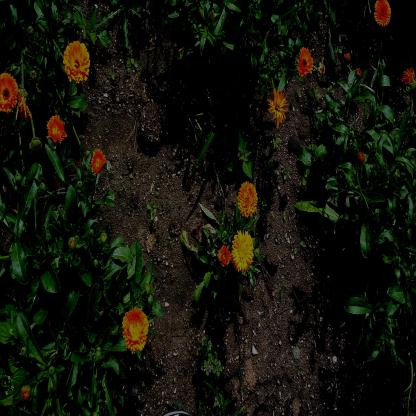marigold: (122, 308, 149, 351), (64, 41, 89, 79), (232, 231, 253, 270), (0, 72, 18, 112), (238, 180, 257, 214), (46, 114, 66, 142), (271, 92, 286, 121), (374, 1, 391, 26), (299, 48, 313, 76), (217, 246, 231, 267)
